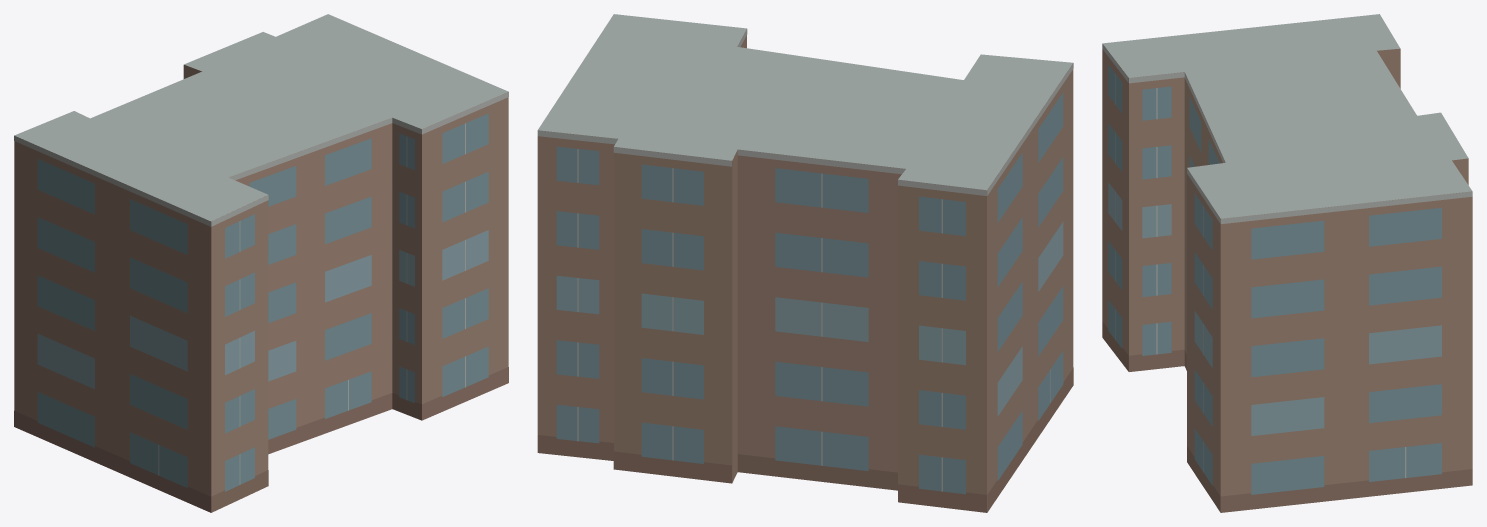
File: survey-upis-33030019.glb
3 views of the same model, side by side, from view 1: azimuth 30°, elevation 25°; view 2: azimuth 150°, elevation 25°; view 3: azimuth 270°, elevation 25° (orthographic). The views are drawn at different scales.
Parts seen in each view (by area): view 1: survey-upis-33030019.tmp; view 2: survey-upis-33030019.tmp; view 3: survey-upis-33030019.tmp.
Part boxes in pixels (x1=…): survey-upis-33030019.tmp: x1=14, y1=14, x2=508, y2=512; survey-upis-33030019.tmp: x1=537, y1=14, x2=1073, y2=512; survey-upis-33030019.tmp: x1=1102, y1=14, x2=1472, y2=512.
Size of the model in its own units: 19.88 by 13.3 by 15.19.
